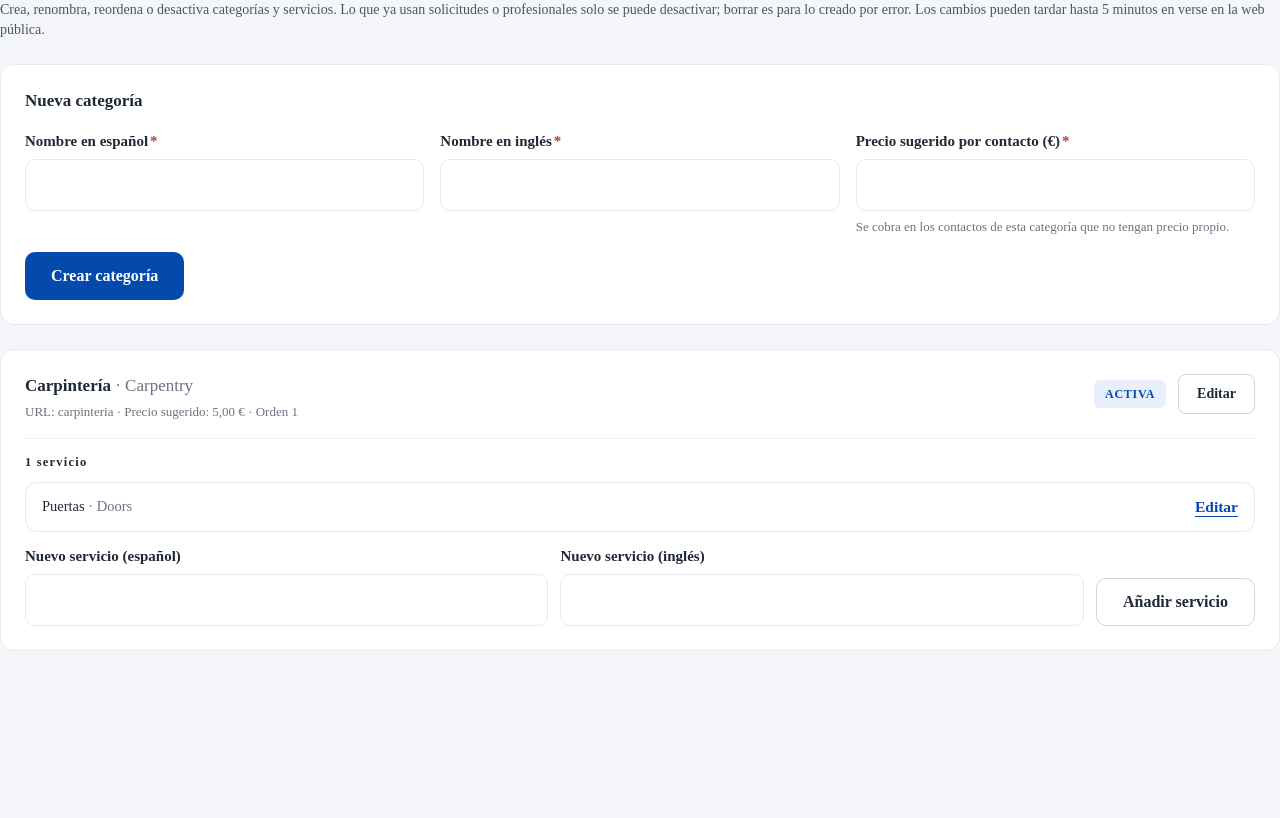
Test: AdminCatalog: servicios destacados en la landing › does not feature a service without its photo
The width and height of the screenshot is (1280, 818).
Expected: the heading "Carpintería · Carpentry" is shown, [25,376,193,395]
Click the button with aria-label "Editar «Puertas»" at (1216, 507), box [1195,495,1238,519]
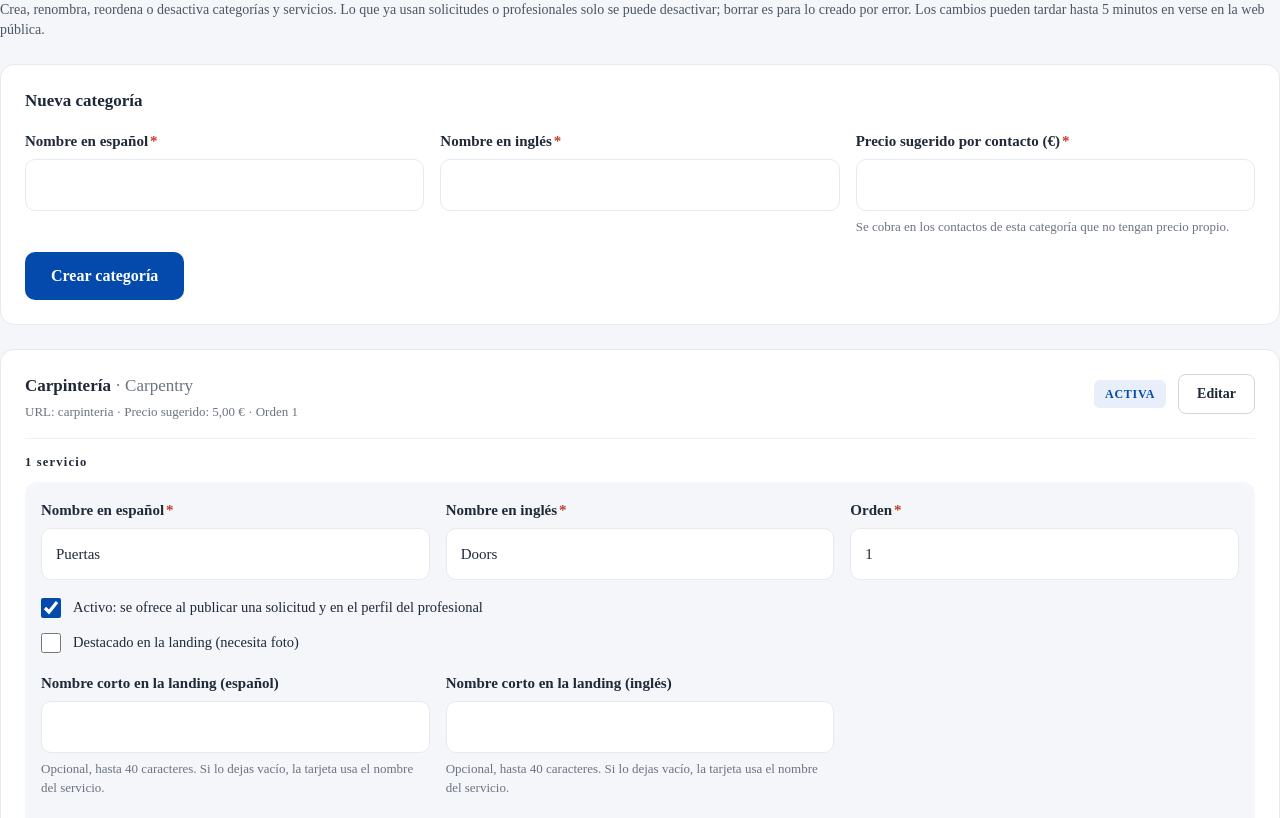
Click the checkbox labelled "Destacado en la landing (necesita foto)" at (51, 643), box [41,633,61,653]
(page scrolled)
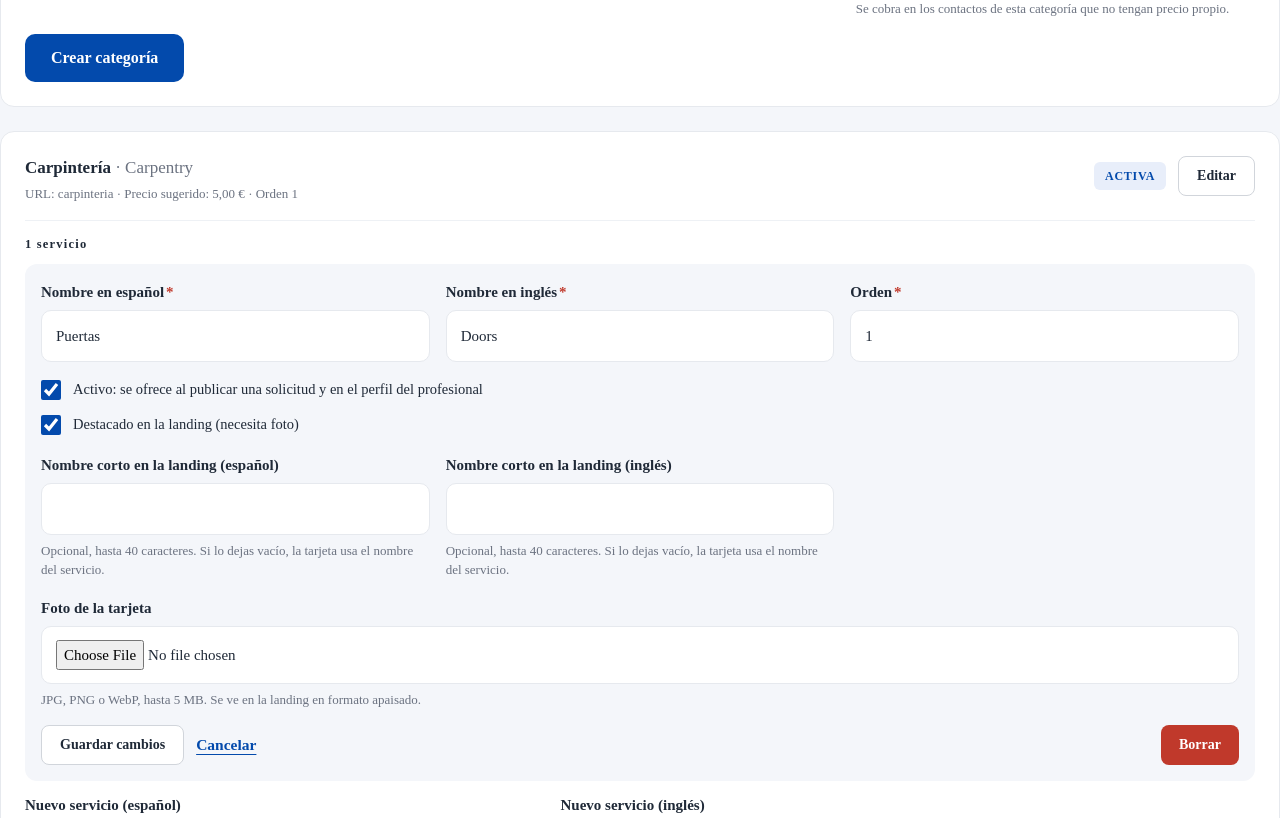
Click the button "Guardar cambios" at (113, 745), box [41,725,184,765]
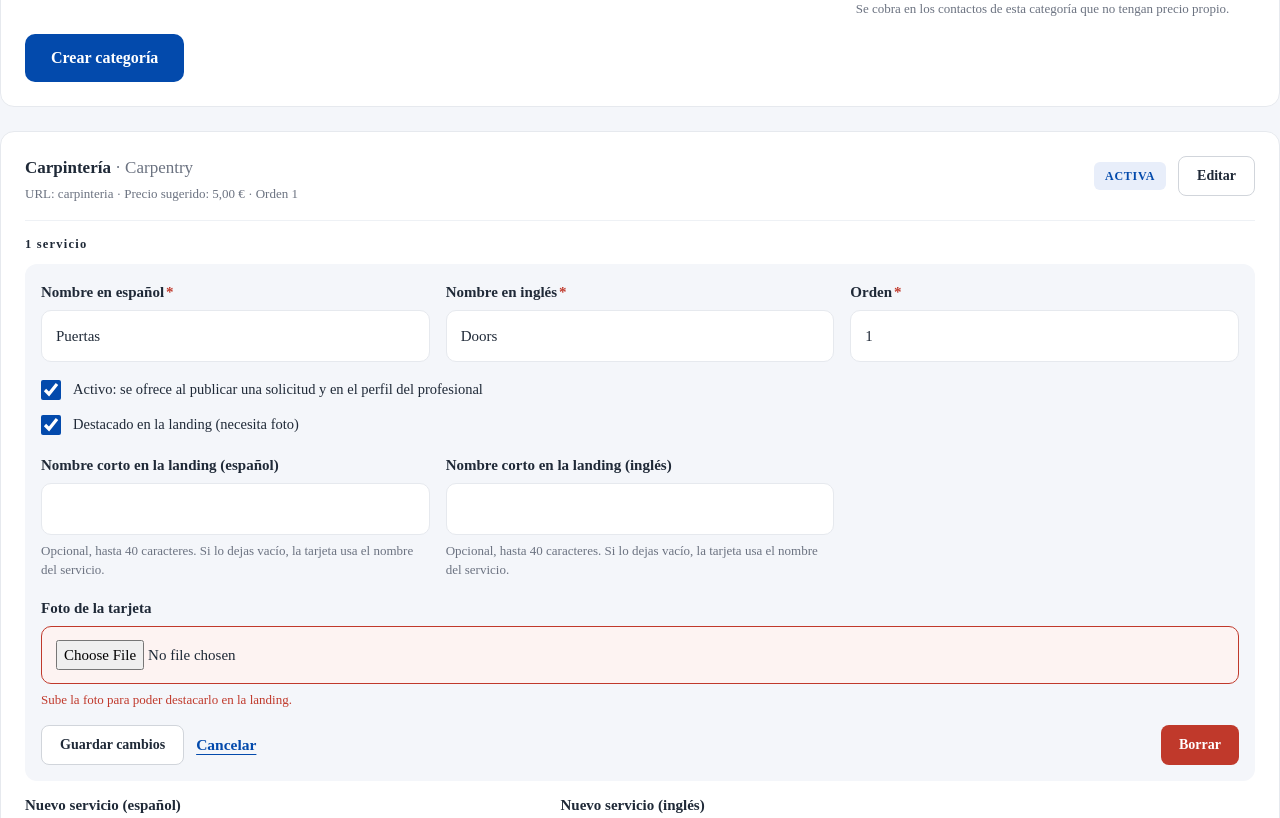
Now the text "Sube la foto para poder destacarlo en la landing." is shown, box [41,692,292,707]
